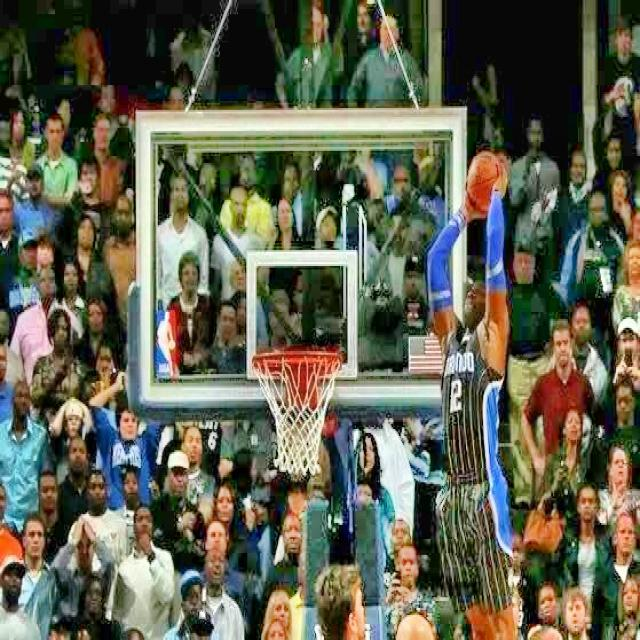rim: (248, 351, 344, 477)
